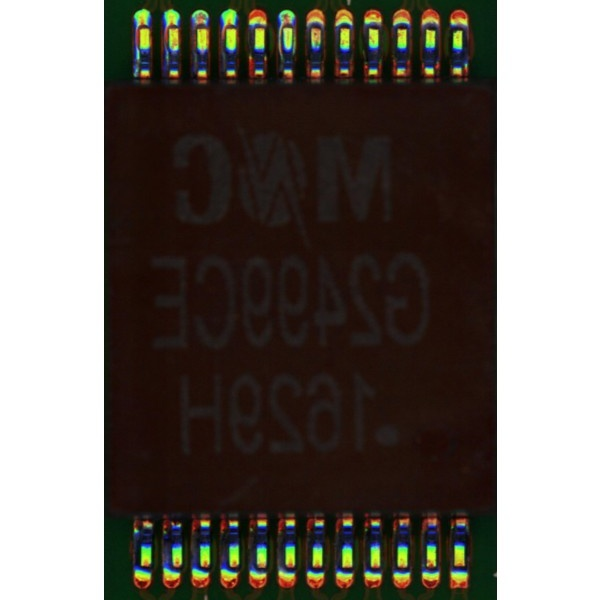Bad_podu: (139, 18, 148, 36), (227, 19, 235, 35), (198, 19, 205, 37), (168, 21, 178, 33), (283, 19, 292, 30)
Bad_qiaojiao: (135, 29, 143, 68), (163, 29, 169, 69), (278, 28, 284, 68)
